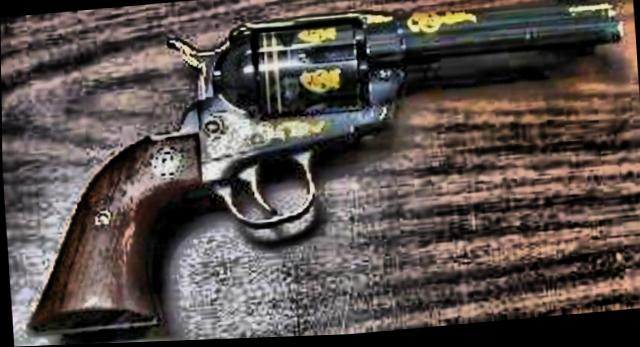pistol: (4, 0, 636, 338)
